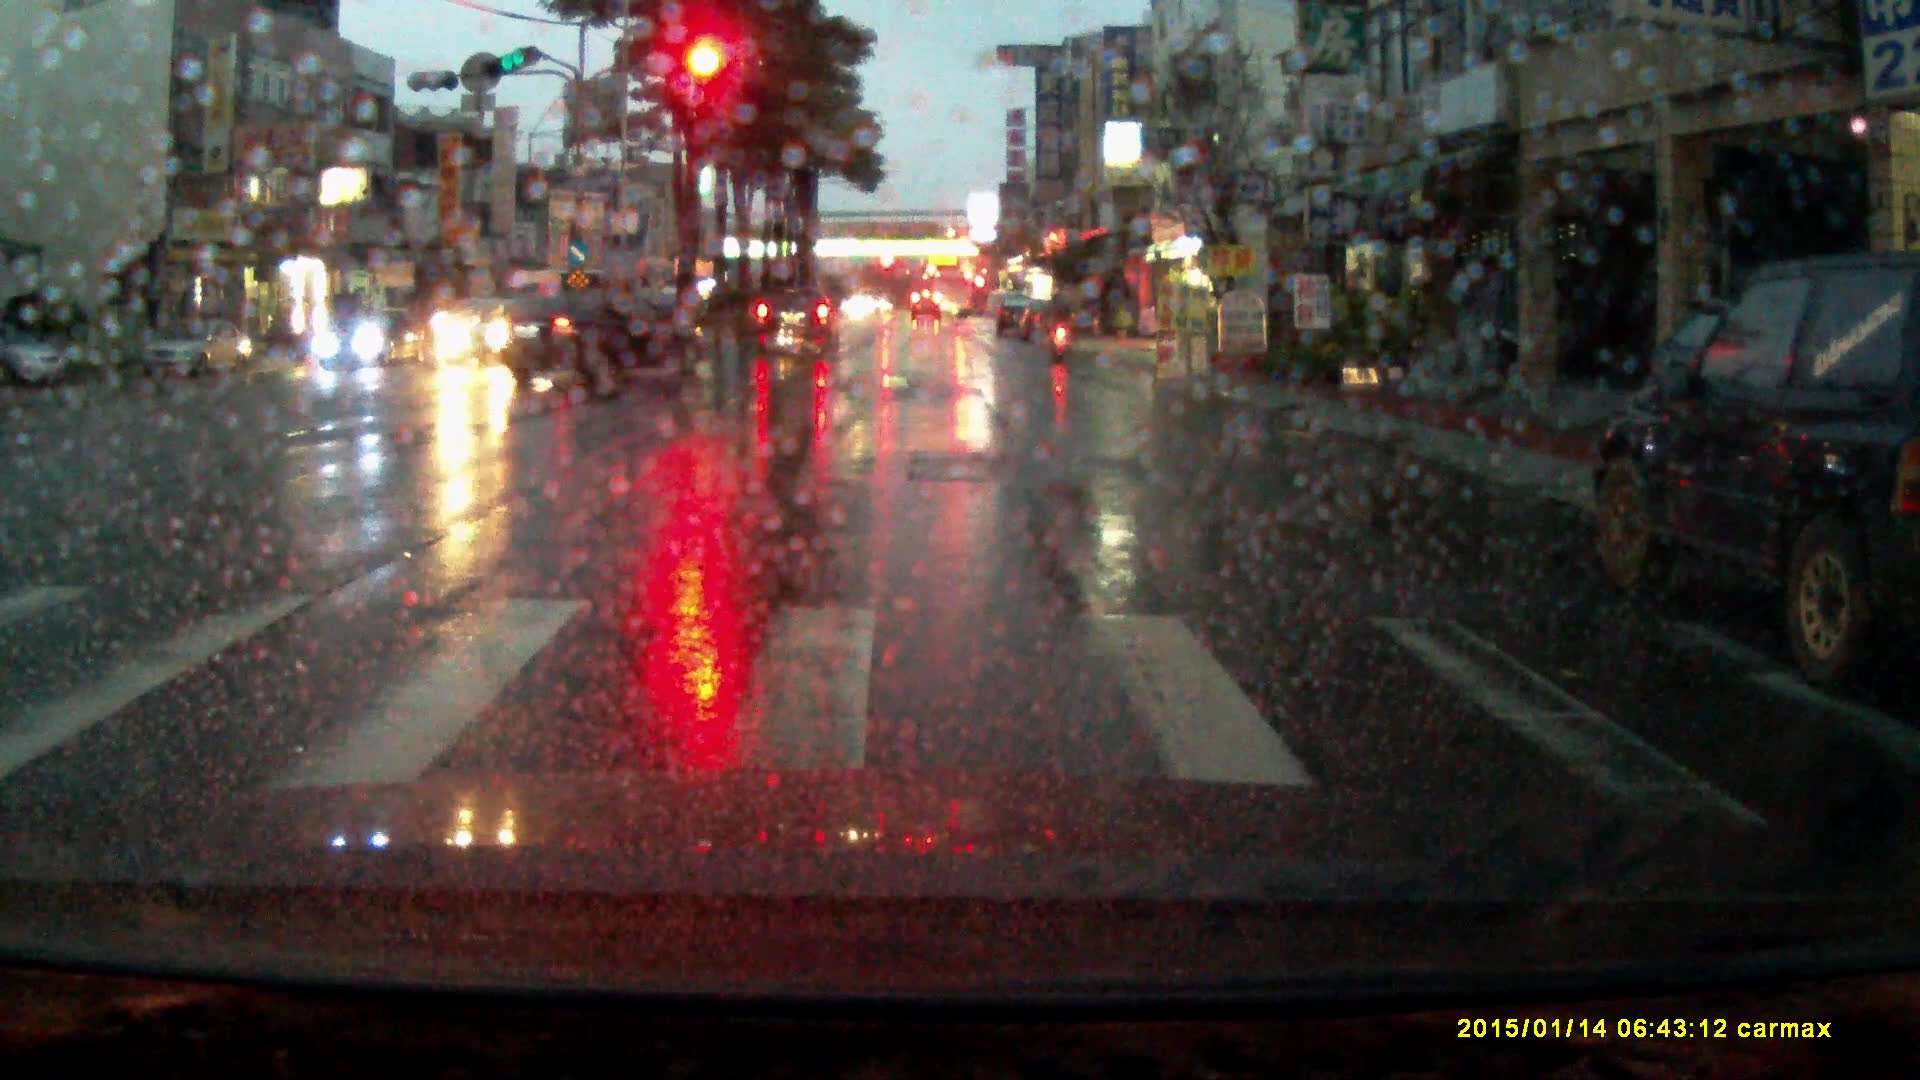rider: (1040, 290, 1080, 364)
vehicle: (1582, 248, 1920, 683), (493, 293, 707, 385), (316, 305, 429, 374), (753, 285, 845, 366), (142, 314, 253, 380), (494, 268, 591, 341), (574, 288, 664, 340), (1, 331, 69, 389), (1017, 300, 1079, 346), (931, 264, 973, 321), (995, 295, 1030, 338), (911, 291, 943, 322)
